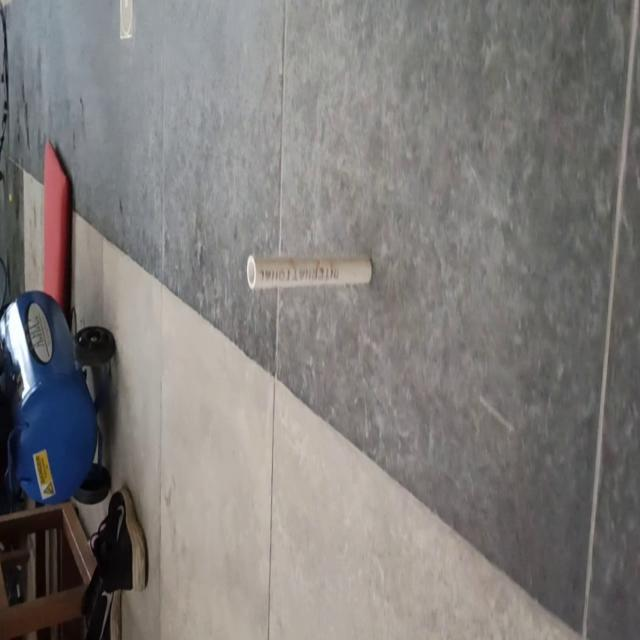Cube: (245, 252, 372, 290)
